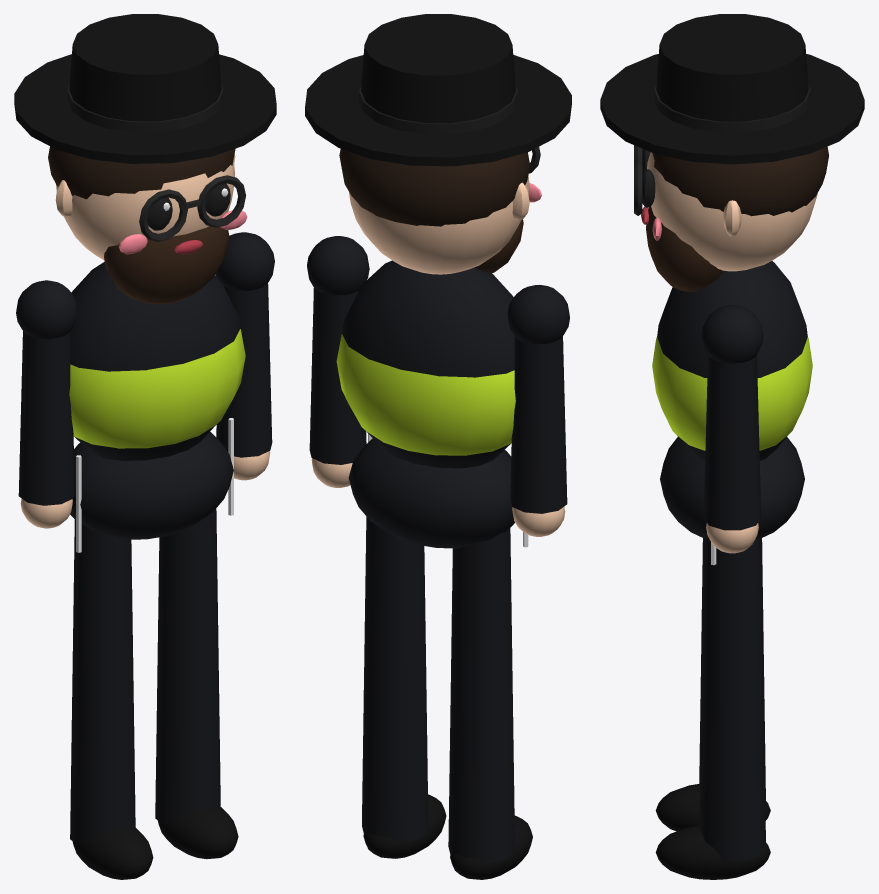
Rendered from community_shomer.glb.
3 renders of one model, left to right at view 1: azimuth 30°, elevation 25°; view 2: azimuth 150°, elevation 25°; view 3: azimuth 270°, elevation 25°, orthographic.
Parts seen in each view (by area): view 1: Body, Leg_R, Leg_L, Arm_R, Arm_L; view 2: Body, Leg_R, Leg_L, Arm_R, Arm_L; view 3: Body, Leg_L, Arm_L, Leg_R.
Part boxes in pixels (<box>): Body: <box>14,14,276,552</box>; Leg_R: <box>70,519,153,879</box>; Leg_L: <box>155,508,238,859</box>; Arm_R: <box>16,280,77,528</box>; Arm_L: <box>215,232,274,480</box>; Body: <box>305,14,571,548</box>; Leg_R: <box>448,528,532,879</box>; Leg_L: <box>362,516,446,858</box>; Arm_R: <box>507,284,569,536</box>; Arm_L: <box>307,236,369,487</box>; Body: <box>600,14,864,565</box>; Leg_L: <box>655,538,770,879</box>; Arm_L: <box>701,305,763,553</box>; Leg_R: <box>655,538,770,831</box>.
Bounding box in the file's own units: 0.6052 × 1.86 × 0.551.
